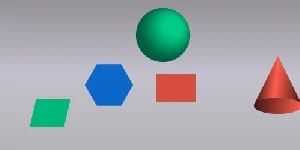六边形: (84, 62, 134, 110)
圆锥体: (251, 56, 300, 117)
平行四边形: (28, 96, 72, 130)
球体: (134, 6, 192, 64)
矩形: (153, 73, 198, 103)
